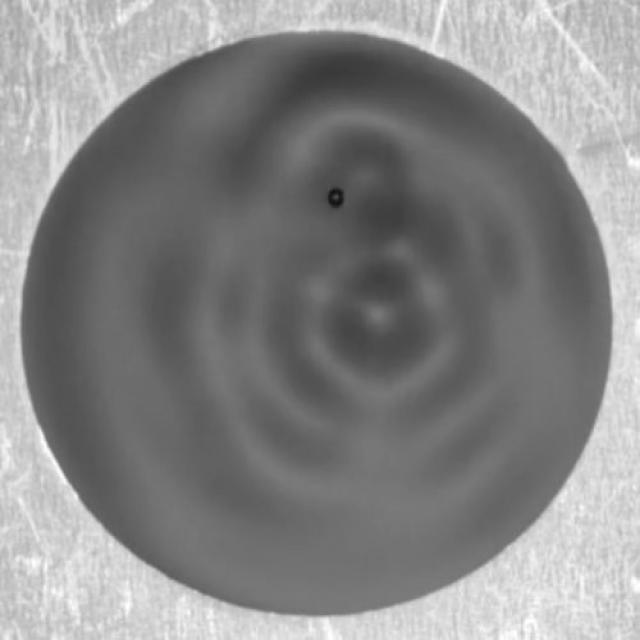droplet: (326, 185, 348, 210)
